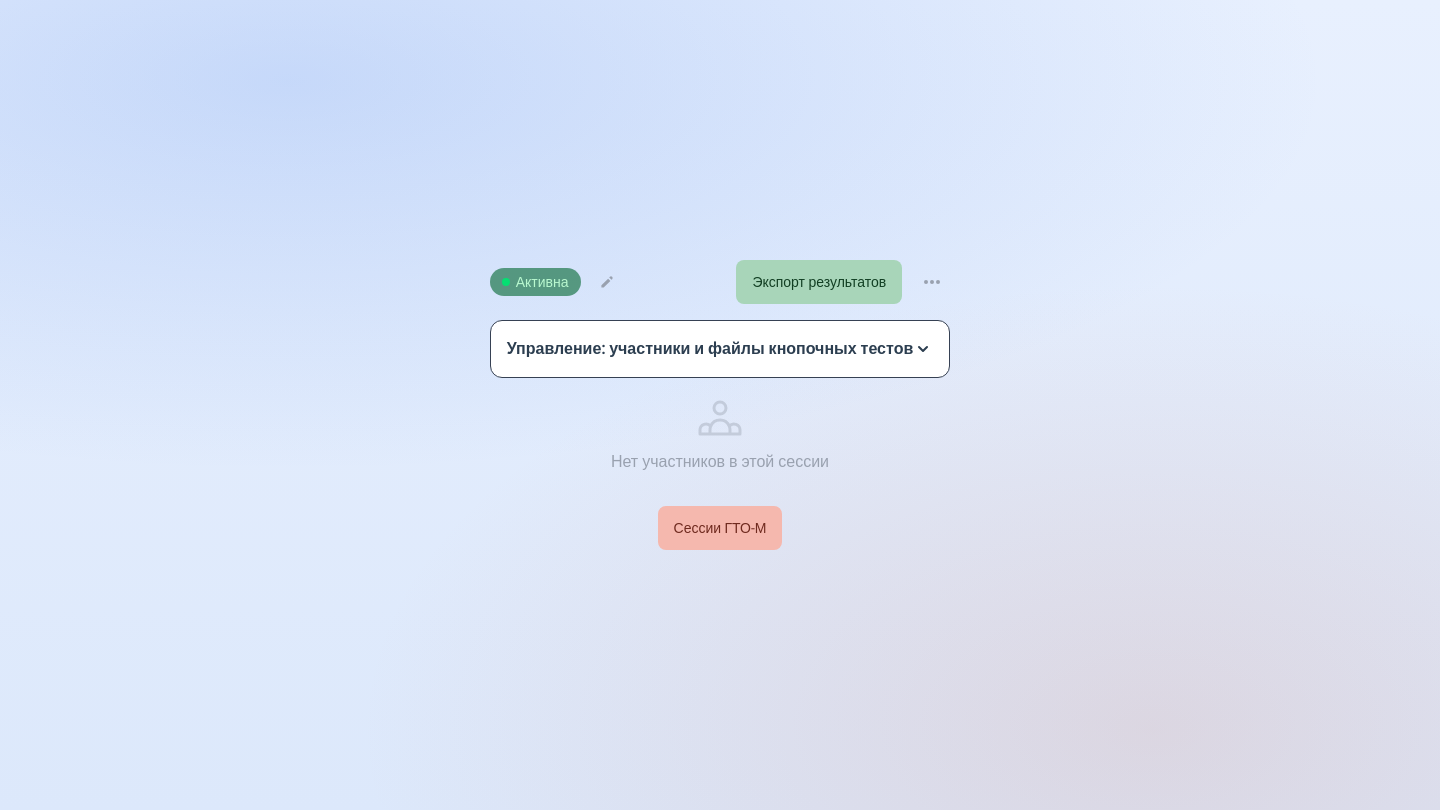
Scenario: /admin/gto/[id] — реструктурированная страница сессии › общий тоггл раскрывает обе карточки
What coordinates should you click on to do the following:
click the button with aria-label "Карточки управления сессией"
I would click on:
 (720, 349)
Its box is [490,320,950,378].
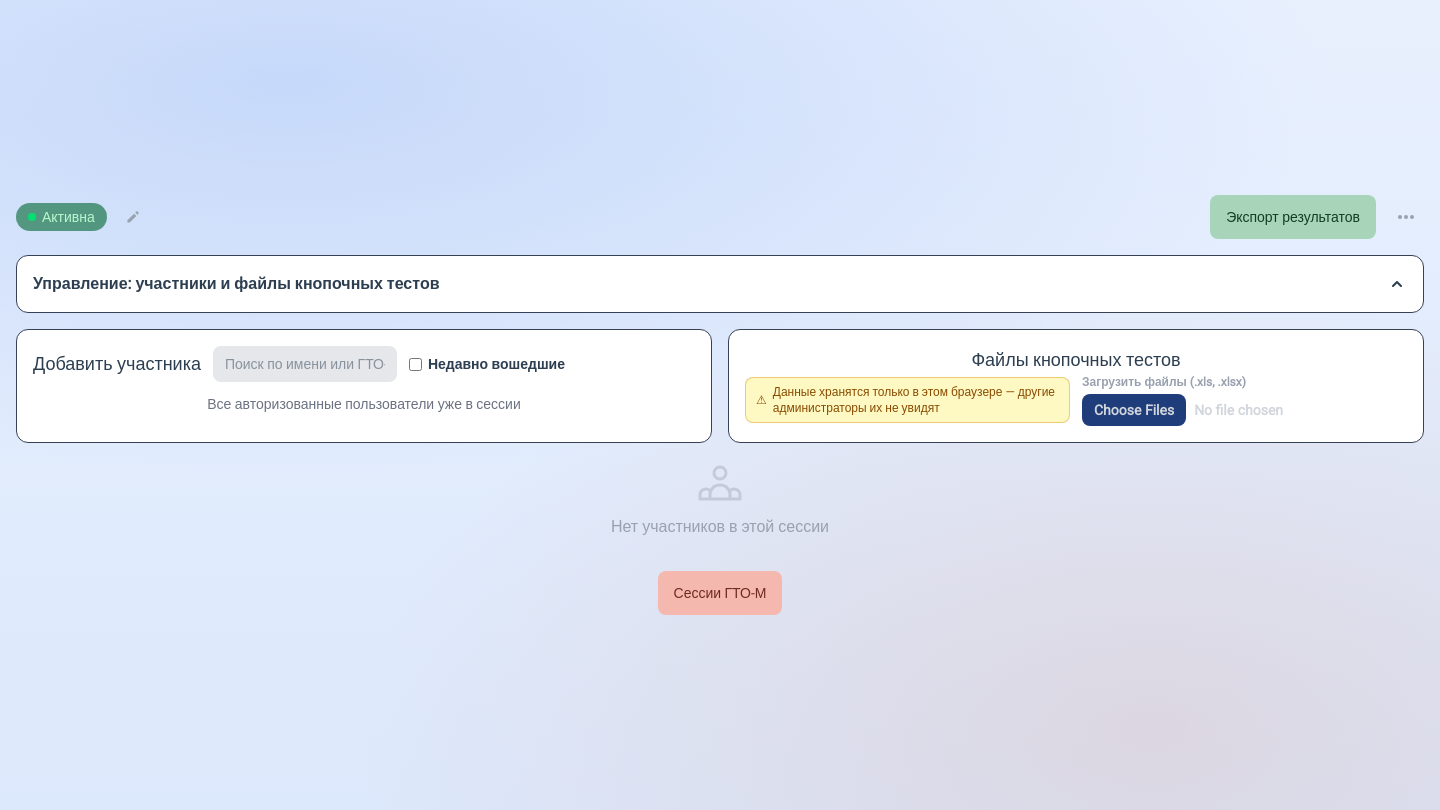
Expected: the text "Добавить участника" is shown, [33,350,201,378]
Expected: the text "Загрузить файлы" is shown, [1082,375,1246,389]
Expected: the button with aria-label "Карточки управления сессией" is expanded
What coordinates should you click on to do the following:
click the button with aria-label "Карточки управления сессией"
I would click on:
 (236, 284)
Its box is [16,255,1424,313].
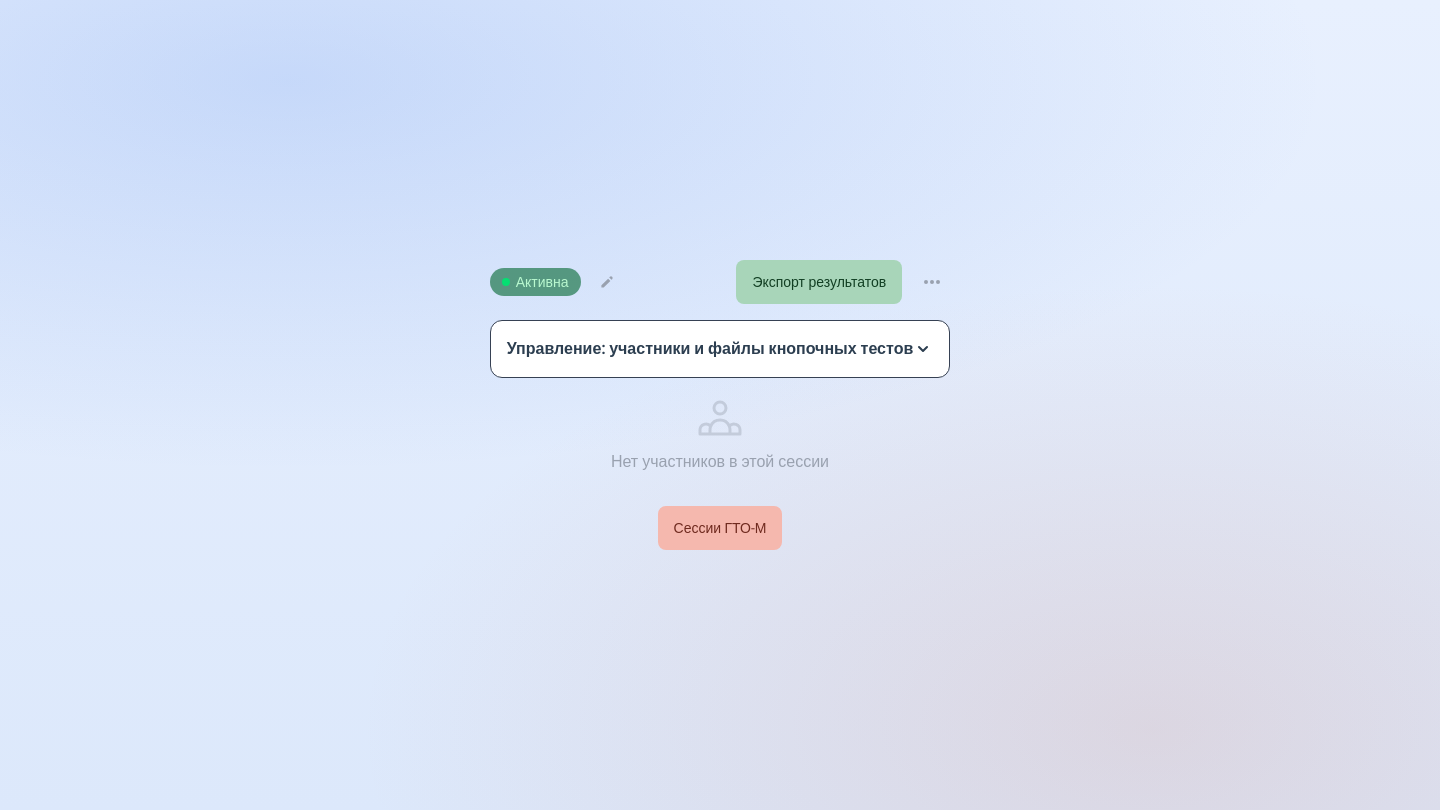
Expected: the text "Добавить участника" is gone
Expected: the text "Загрузить файлы" is gone
